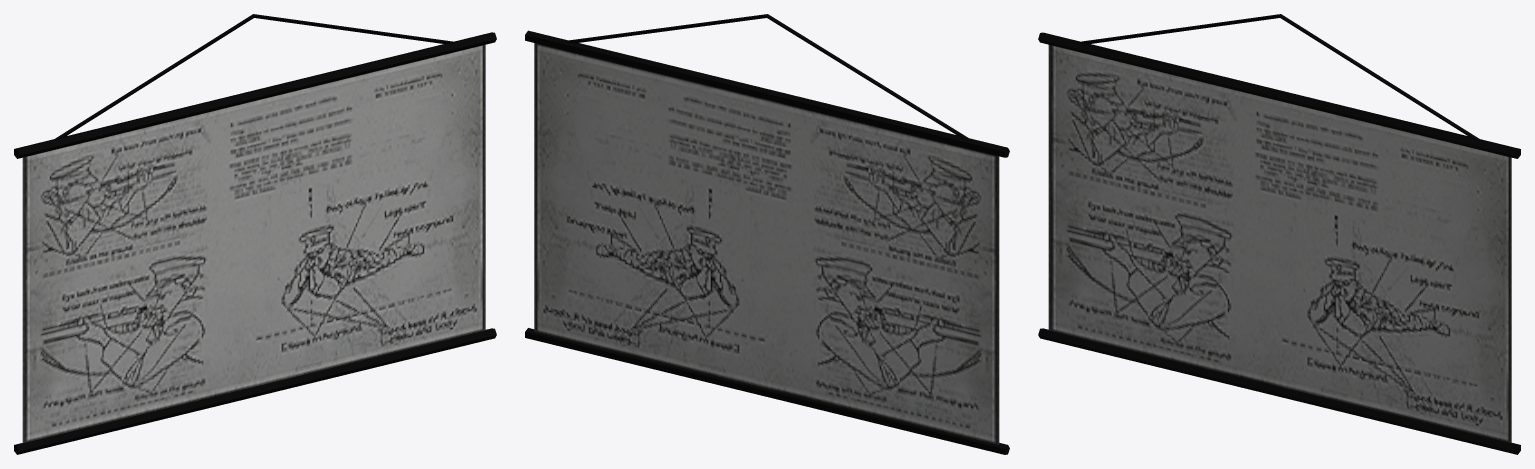
File: Training_Poster6.fbx
The picture shows the model from 3 angles, left to right: view 1: azimuth 30°, elevation 25°; view 2: azimuth 150°, elevation 25°; view 3: azimuth 330°, elevation 25°; orthographic projection.
Visible parts, largest first — view 1: a1plakat04, Cylinder01, Cylinder02, Loft01; view 2: a1plakat04, Cylinder01, Cylinder02, Loft01; view 3: a1plakat04, Cylinder01, Cylinder02, Loft01.
Boxes of the visible parts, box(x1,y1,x2,y2) form: a1plakat04: box(22, 44, 485, 443); Cylinder01: box(14, 32, 496, 158); Cylinder02: box(14, 328, 496, 454); Loft01: box(53, 14, 456, 140); a1plakat04: box(534, 43, 999, 444); Cylinder01: box(525, 30, 1009, 157); Cylinder02: box(525, 328, 1009, 454); Loft01: box(565, 14, 968, 140); a1plakat04: box(1048, 45, 1511, 443); Cylinder01: box(1038, 32, 1520, 158); Cylinder02: box(1038, 328, 1520, 454); Loft01: box(1078, 14, 1480, 140).
Size of the model in its own units: 198 by 151 by 3.62.
